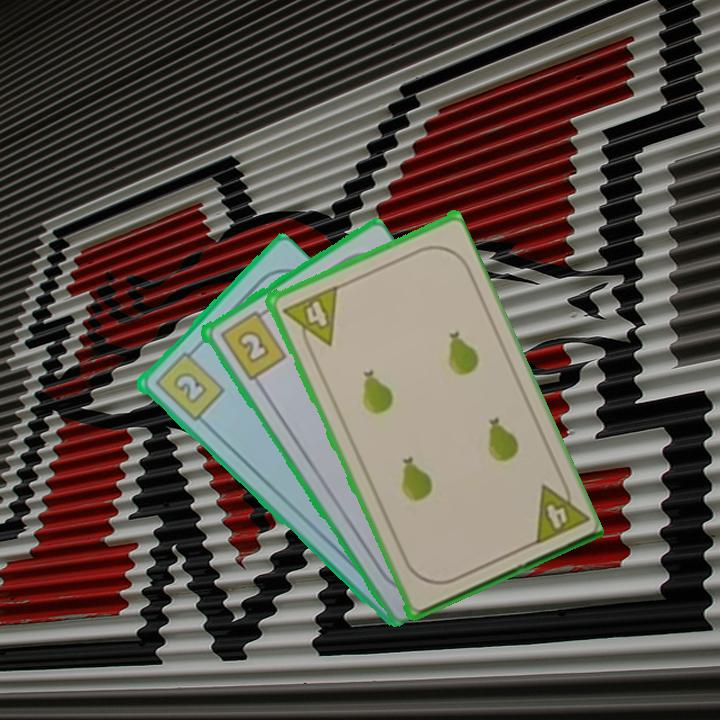2b: (150, 343, 227, 424), (216, 305, 289, 383)
4p: (527, 472, 589, 548), (278, 282, 340, 355)
